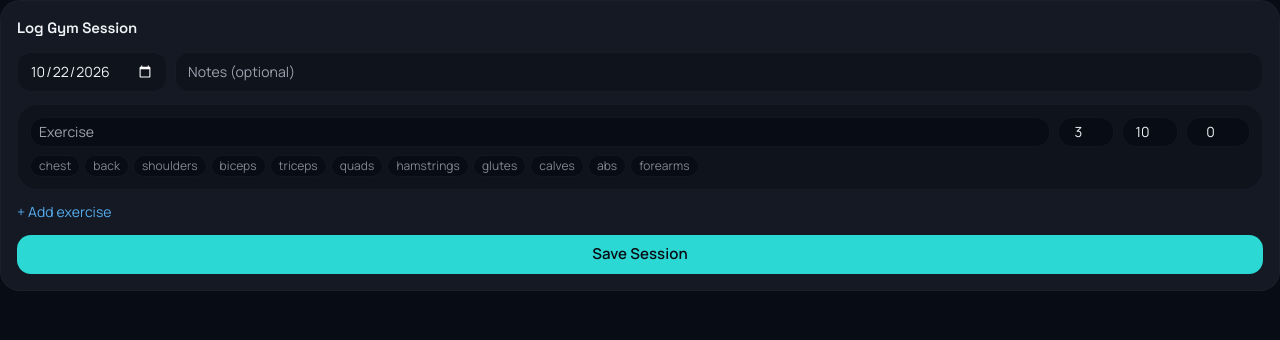
GymSessionForm › requires at least one named exercise
The width and height of the screenshot is (1280, 340).
Click the button "Save Session" at {"x": 640, "y": 254}, box x1=17 y1=235 x2=1263 y2=274
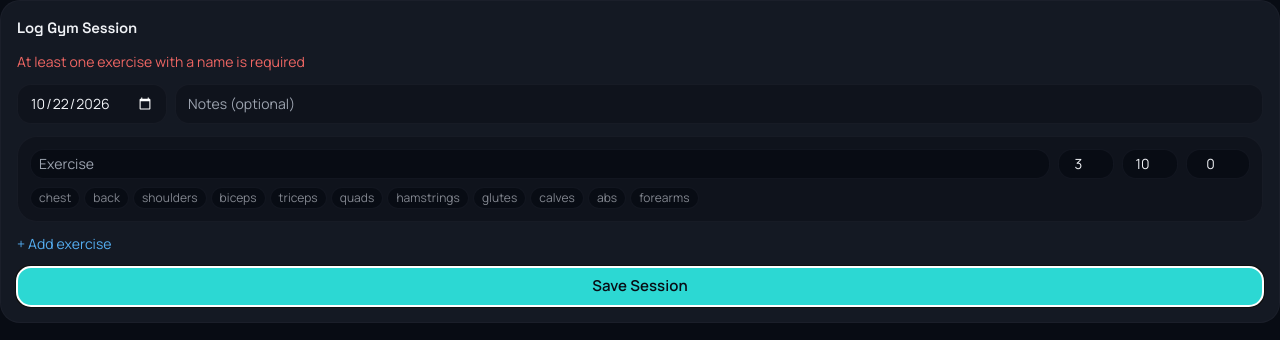
Check: the text "At least one exercise with a name is required" is shown, box x1=17 y1=52 x2=305 y2=70
